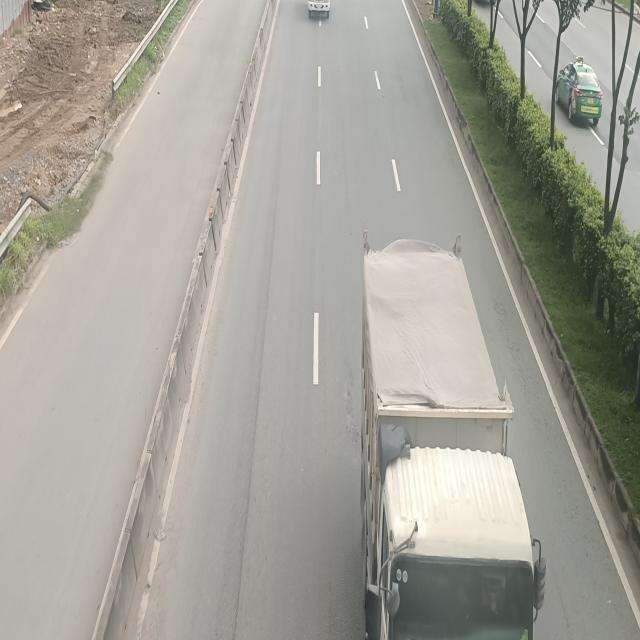container: (359, 232, 546, 636)
